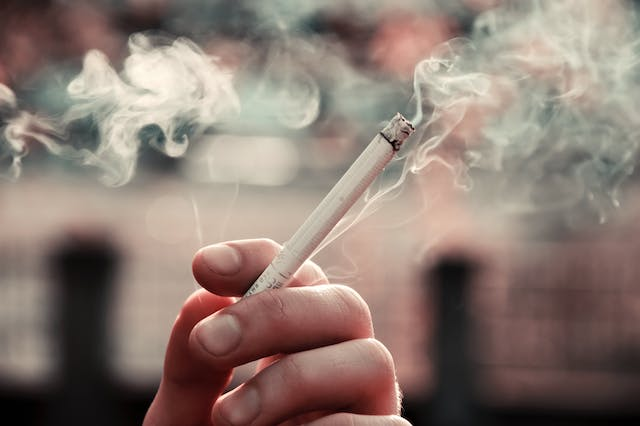Cigarette: (240, 112, 416, 299)
